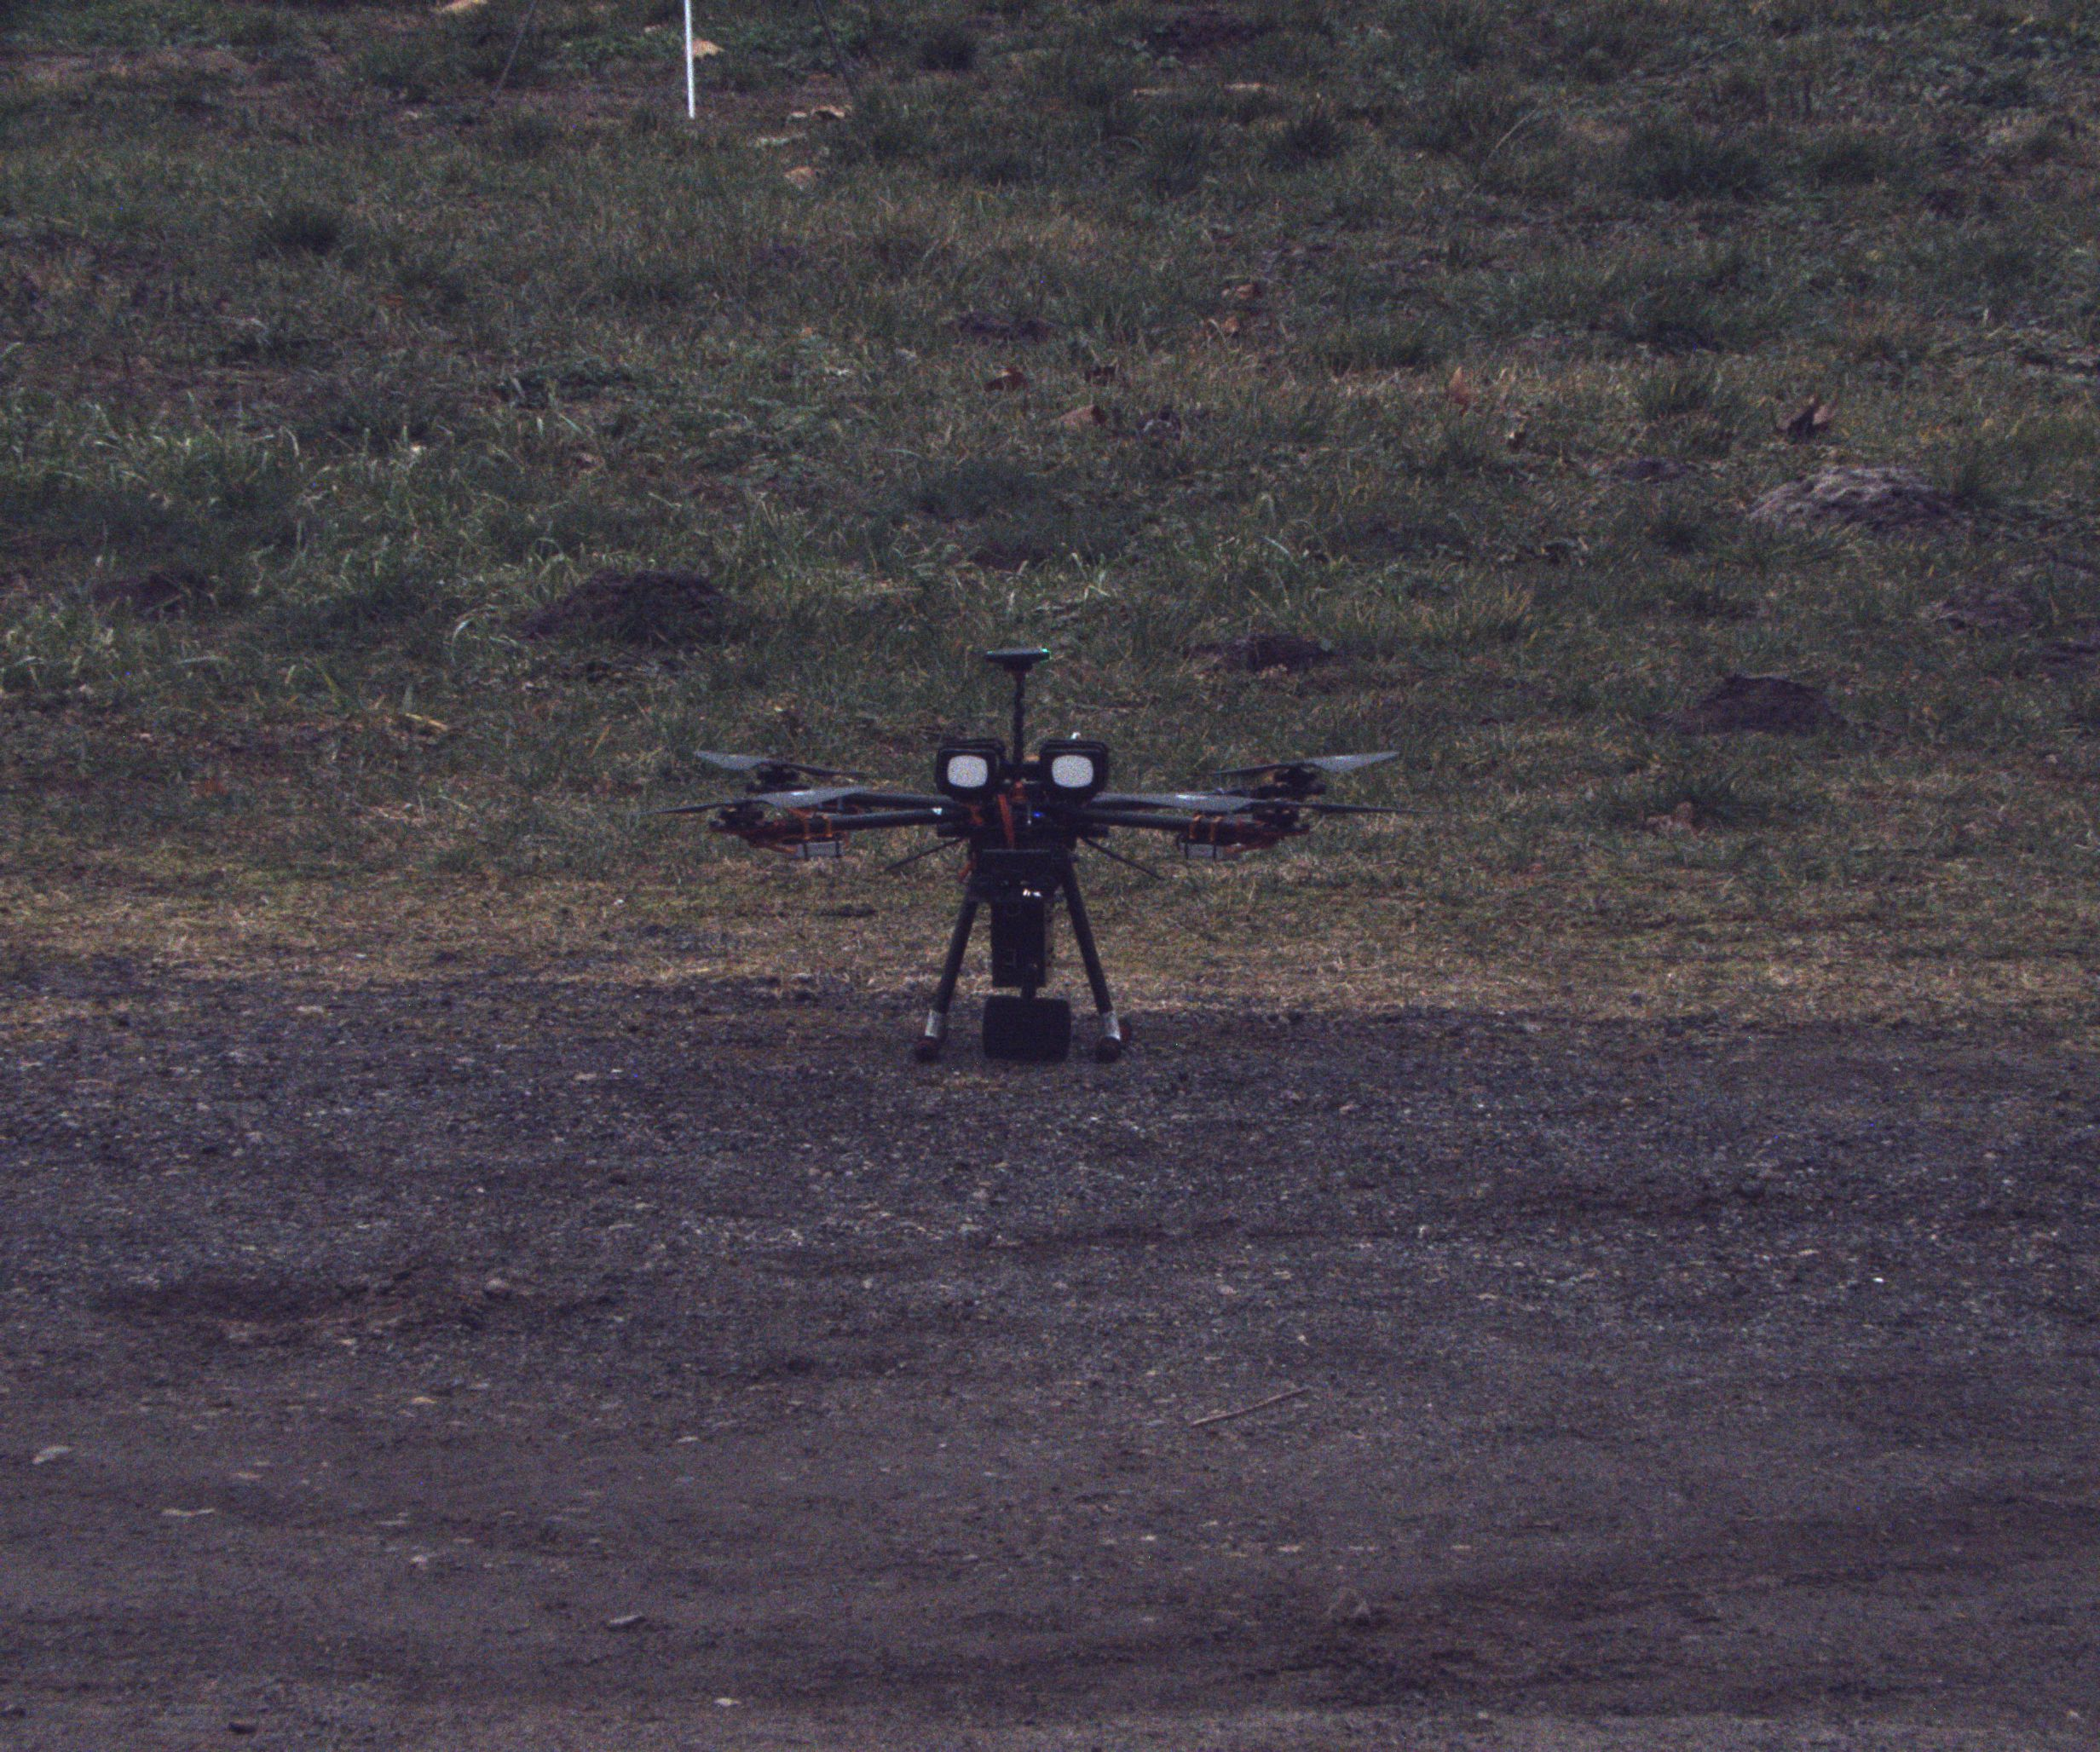Drohne: (626, 622, 1420, 1119)
